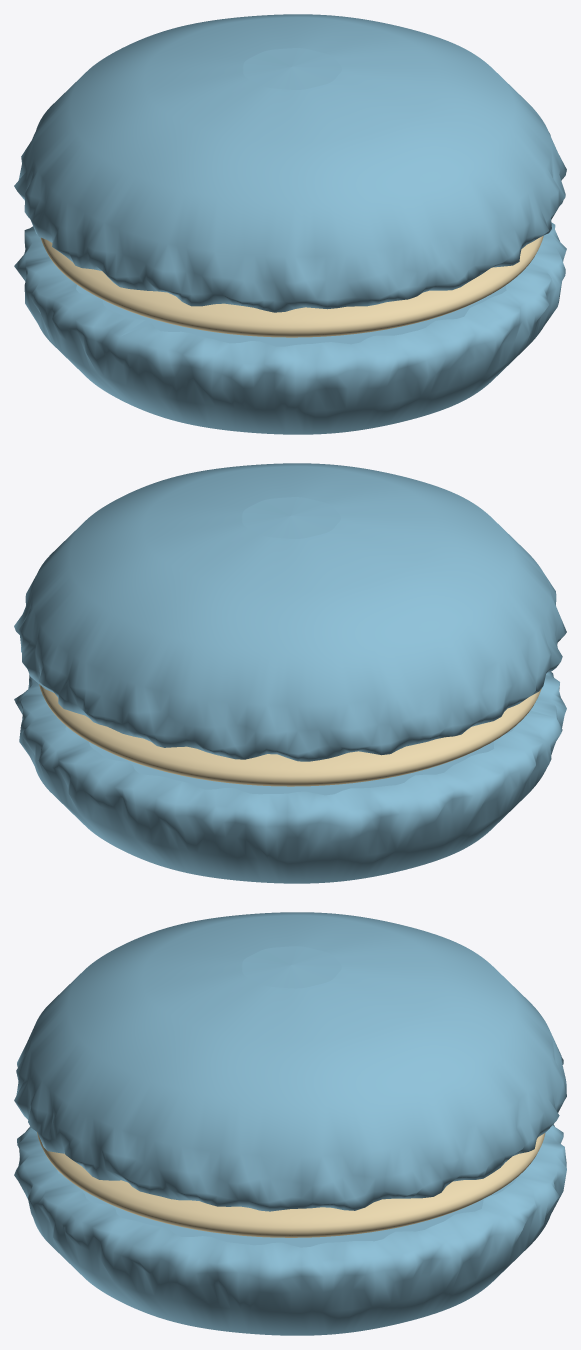
The picture shows the model from 3 angles, top to bottom: view 1: azimuth 30°, elevation 25°; view 2: azimuth 150°, elevation 25°; view 3: azimuth 270°, elevation 25°; orthographic projection.
Parts seen in each view (by area): view 1: Top domed shell with rough feet, Bottom domed shell with rough feet, Thick vanilla filling layer; view 2: Top domed shell with rough feet, Bottom domed shell with rough feet, Thick vanilla filling layer; view 3: Top domed shell with rough feet, Bottom domed shell with rough feet, Thick vanilla filling layer.
Part boxes in pixels (bbox=[...]): Top domed shell with rough feet: bbox=[14, 14, 566, 312]; Bottom domed shell with rough feet: bbox=[14, 222, 566, 434]; Thick vanilla filling layer: bbox=[41, 235, 543, 337]; Top domed shell with rough feet: bbox=[14, 463, 566, 761]; Bottom domed shell with rough feet: bbox=[14, 671, 566, 883]; Thick vanilla filling layer: bbox=[39, 684, 541, 786]; Top domed shell with rough feet: bbox=[14, 912, 566, 1211]; Bottom domed shell with rough feet: bbox=[14, 1124, 566, 1335]; Thick vanilla filling layer: bbox=[37, 1132, 545, 1237].
Size of the model in its own units: 0.0449 by 0.0282 by 0.0445.
